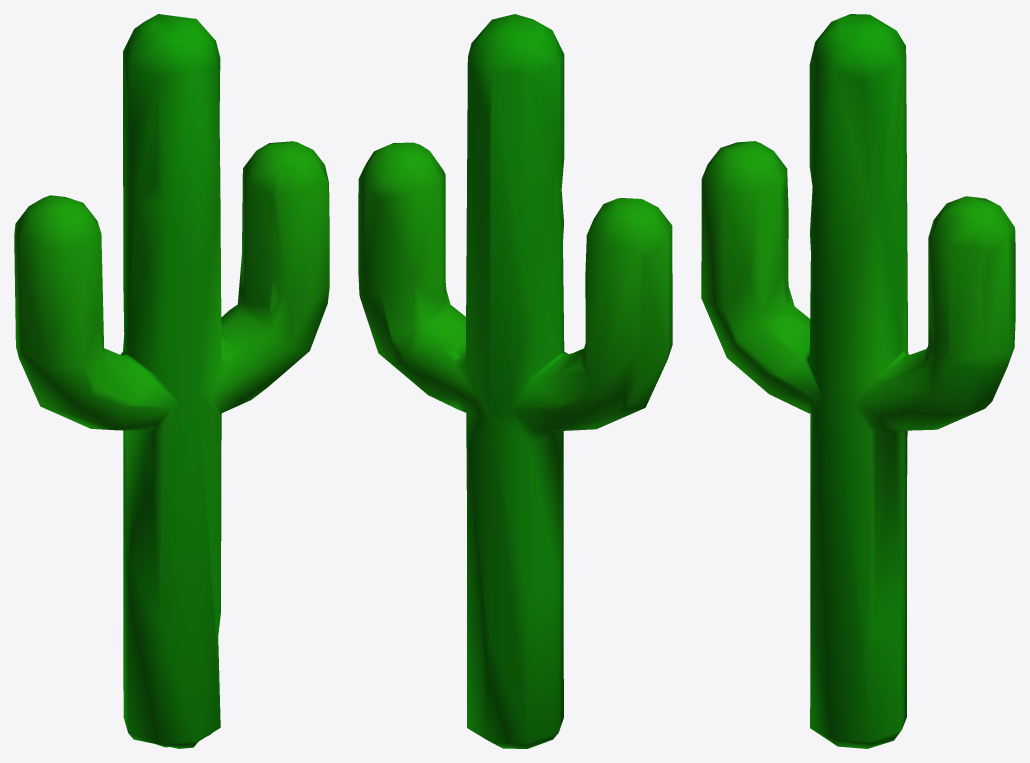
File: gen3d-saguaro-cactus-lod1.glb
3 renders of one model, left to right at view 1: azimuth 30°, elevation 25°; view 2: azimuth 150°, elevation 25°; view 3: azimuth 330°, elevation 25°, orthographic.
Parts seen in each view (by area): view 1: part_0; view 2: part_0; view 3: part_0.
Boxes of the visible parts, <box> form: part_0: <box>14,14,329,748</box>; part_0: <box>358,14,672,748</box>; part_0: <box>701,14,1015,748</box>.
Size of the model in its own units: 0.4433 by 0.9998 by 0.129.
